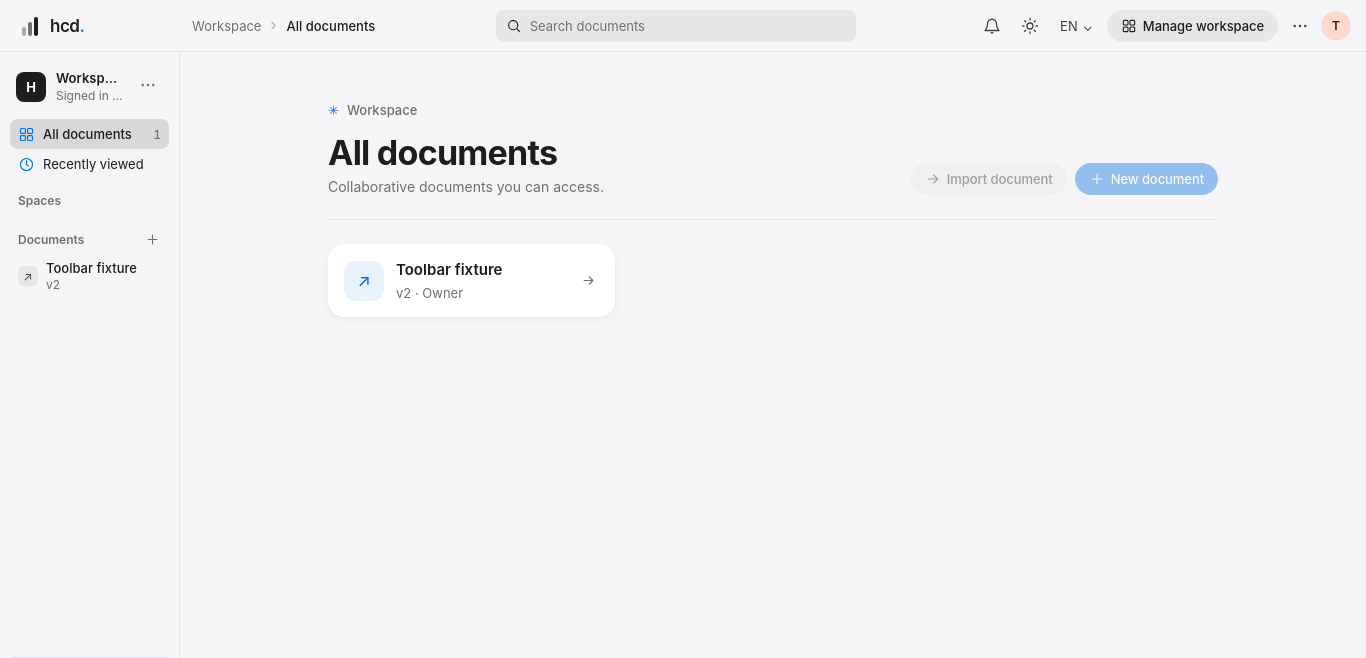
Test: C2 Members opens document membership through its document settings route
What coordinates should you click on to do the following:
click the button with class "doc-card"
I would click on:
 (472, 280)
Its box is [328, 244, 615, 317].
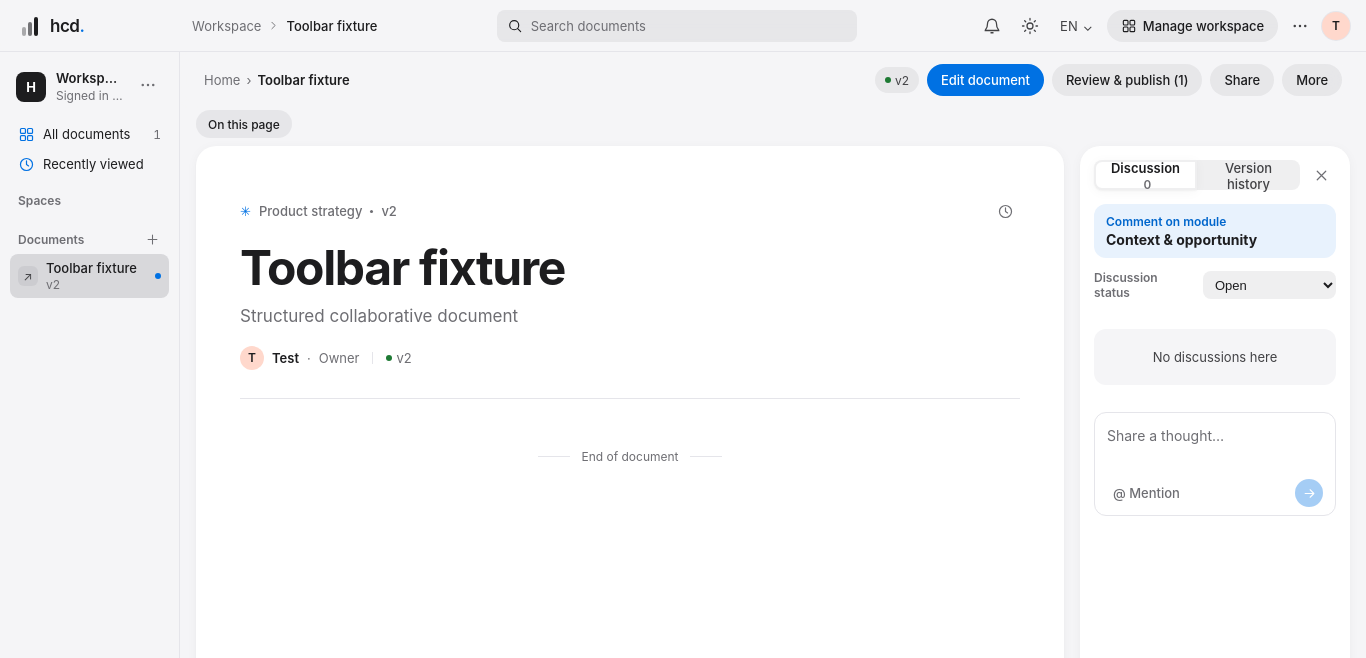
What coordinates should you click on to do the following:
click the button with aria-label "More document actions"
I would click on:
 (1312, 80)
Its box is [1282, 64, 1342, 96].
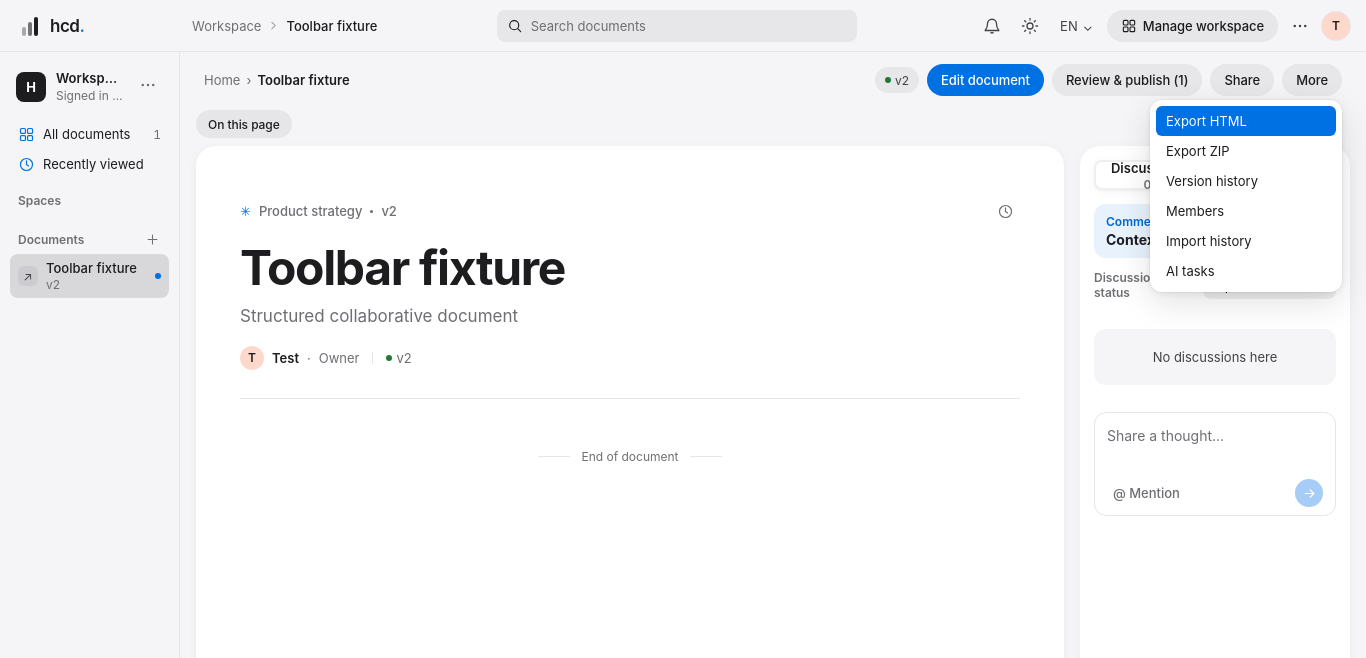
What coordinates should you click on to do the following:
click the menu item "Members"
I would click on:
 (1246, 211)
Its box is [1156, 196, 1336, 226].
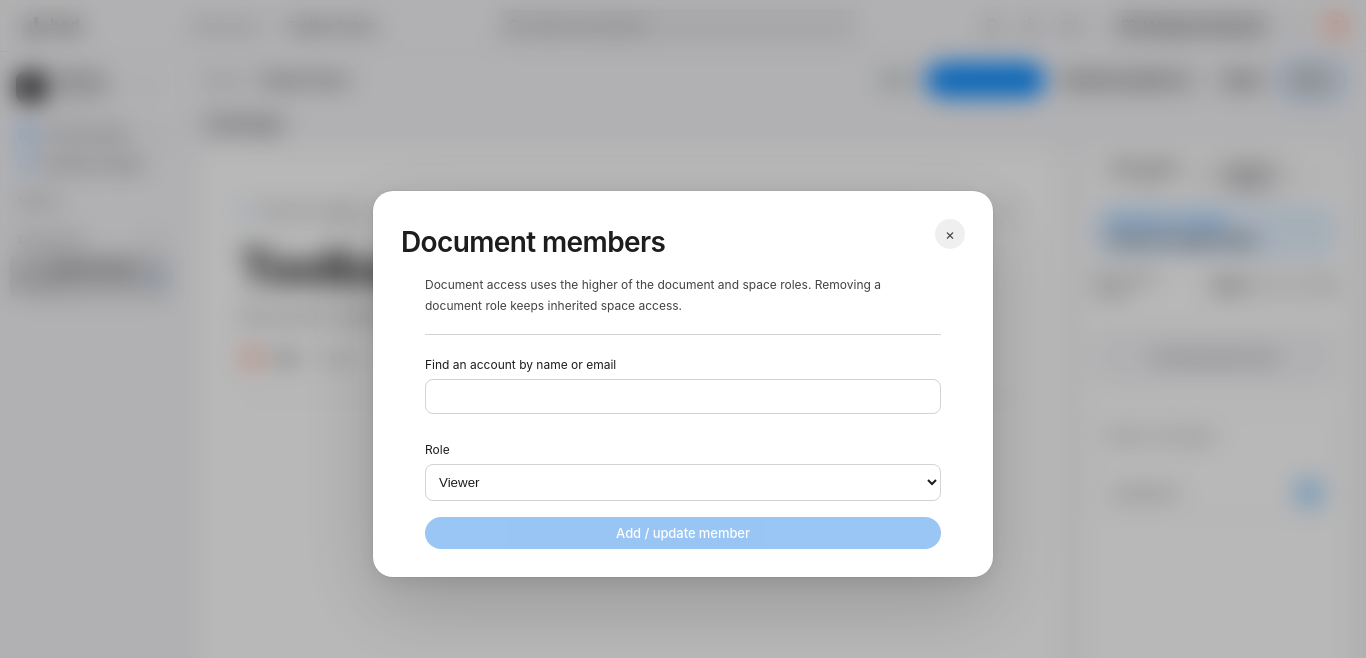
expect the dialog is shown: met, box [373, 191, 993, 577]
